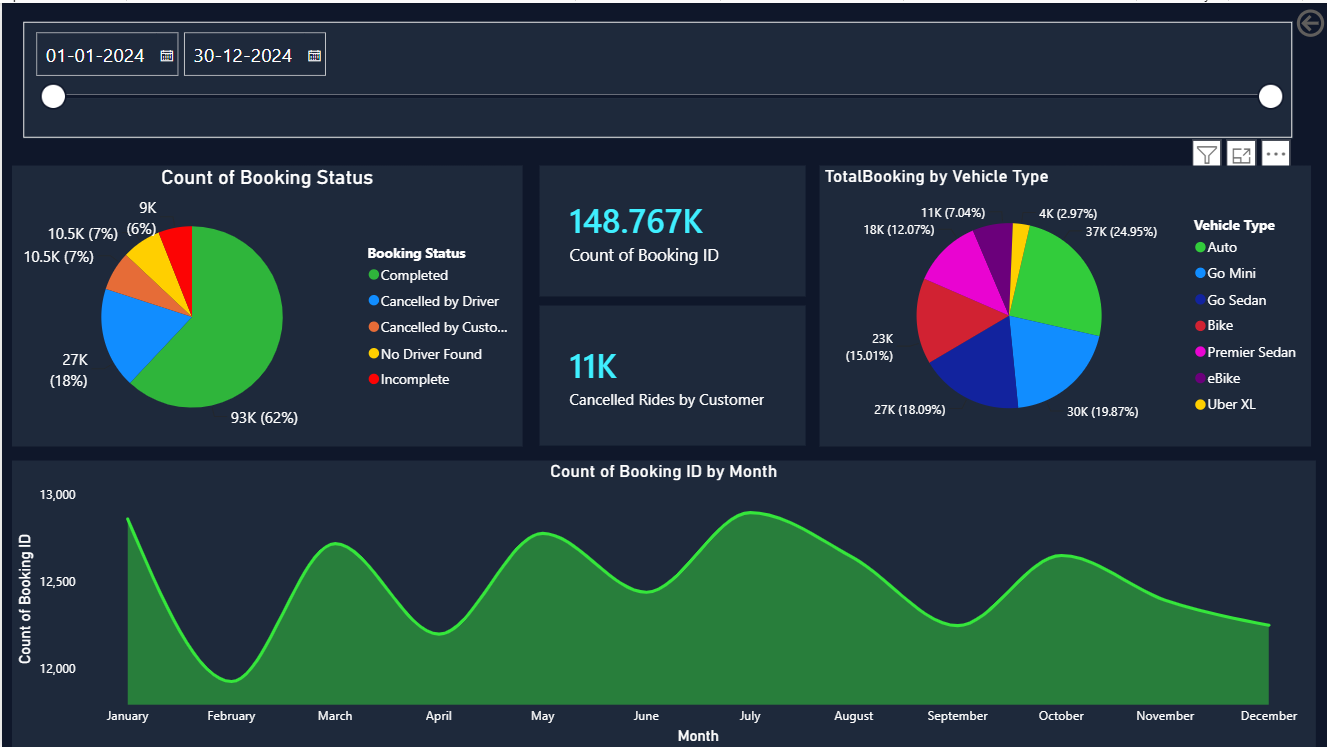

What the dashboard file says about the page in this screenshot:
{"tool":"powerbi","page":{"name":"Overall","canvas":[1280,720],"ordinal":1},"visuals":[{"type":"lineChart","fields":{"Y":["CountNonNull(rideBookings.Booking ID)"],"Category":["rideBookings.Date.Variation.Date Hierarchy.Month"]},"box":[9.7,441.6,1258.3,278.7],"z":0},{"type":"pieChart","title":"Count of Booking Status ","fields":{"Category":["rideBookings.Booking Status"],"Y":["CountNonNull(rideBookings.Booking Status)"]},"box":[9.9,156.5,492.9,271.1],"z":1000},{"type":"cardVisual","fields":{"Data":["Count(rideBookings.Booking ID)"]},"box":[518.8,156.8,257,126.7],"z":2000},{"type":"slicer","fields":{"Values":["rideBookings.Date"]},"box":[249.7,18.1,995.3,112.2],"z":3000},{"type":"image","box":[0,0,228.1,149],"z":4000},{"type":"actionButton","box":[1244.5,0,35.7,39.4],"z":5000},{"type":"cardVisual","fields":{"Data":["Sum(rideBookings.Cancelled Rides by Customer)"]},"box":[518.8,292,257,135.1],"z":6000},{"type":"pieChart","fields":{"Y":["rideBookings.TotalBooking"],"Category":["rideBookings.Vehicle Type"]},"box":[788.6,156.5,474.4,271.1],"z":7000}]}

Visuals, with their boxes in screenshot pixels (x1, y1, x2, y2), scaled from the page's 1280x720 canvas onto the 1327x747 screenshot:
lineChart - CountNonNull(rideBookings.Booking ID) x rideBookings.Date.Variation.Date Hierarchy.Month: 10:458:1315:746
"Count of Booking Status " pieChart: 10:162:521:444
cardVisual - Count(rideBookings.Booking ID): 538:163:804:294
slicer - rideBookings.Date: 259:19:1291:135
image: 0:0:236:155
actionButton: 1290:0:1326:41
cardVisual - Sum(rideBookings.Cancelled Rides by Customer): 538:303:804:443
pieChart - rideBookings.TotalBooking x rideBookings.Vehicle Type: 818:162:1309:444
